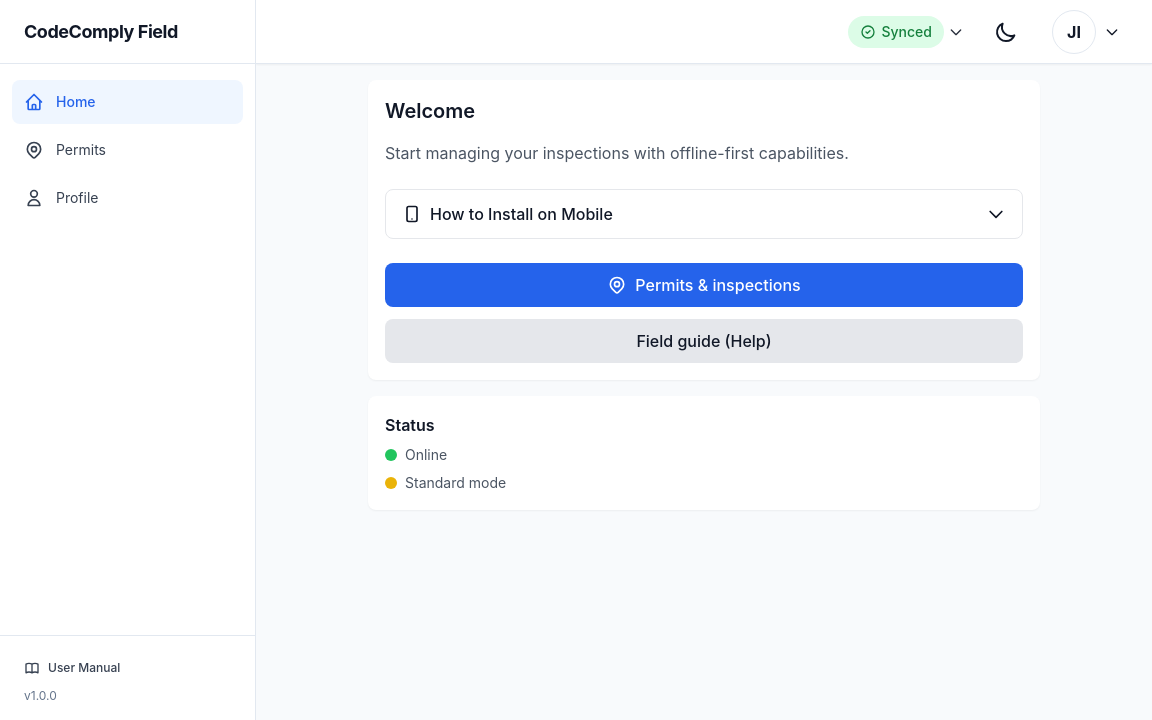
Test case: HomeView - Bug M2-S12-B3: User initials not displayed in header › should display user menu with profile and logout options
Click the button "JI" at (1086, 32), box [1044,10,1128,54]
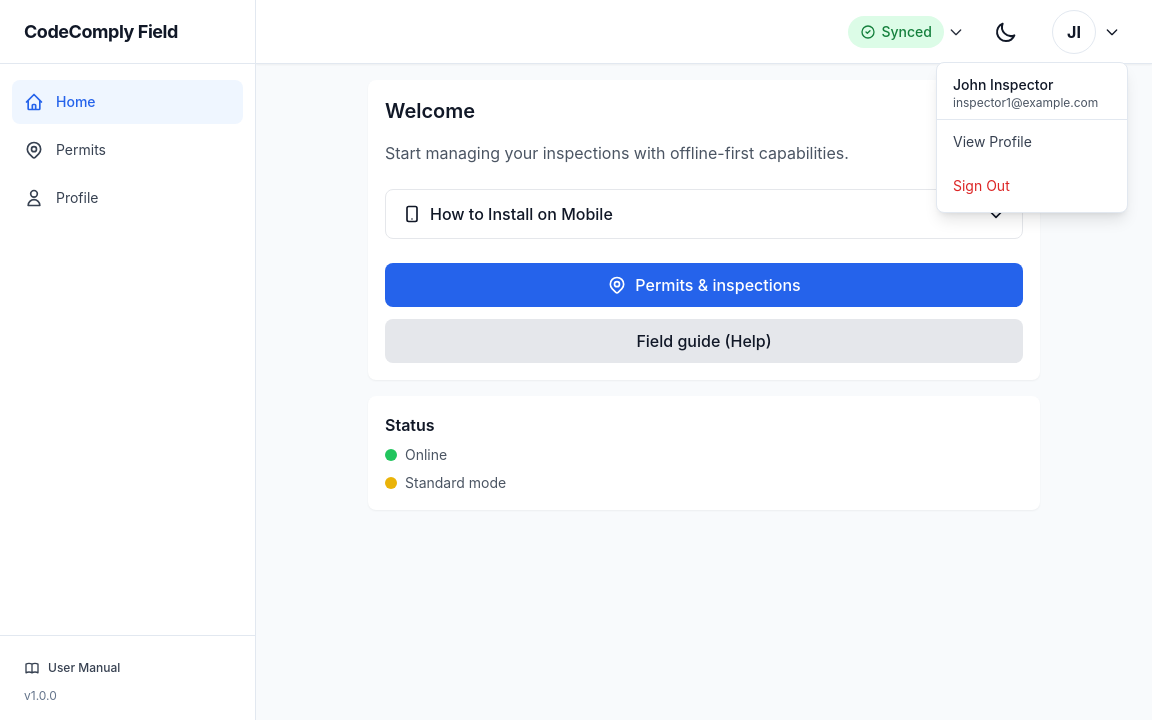
Expected: the text "John Inspector" is shown, [953,76,1053,92]
Expected: the text "inspector1@example.com" is shown, [953,94,1111,110]
Expected: the text "View Profile" is shown, [937,120,1127,164]
